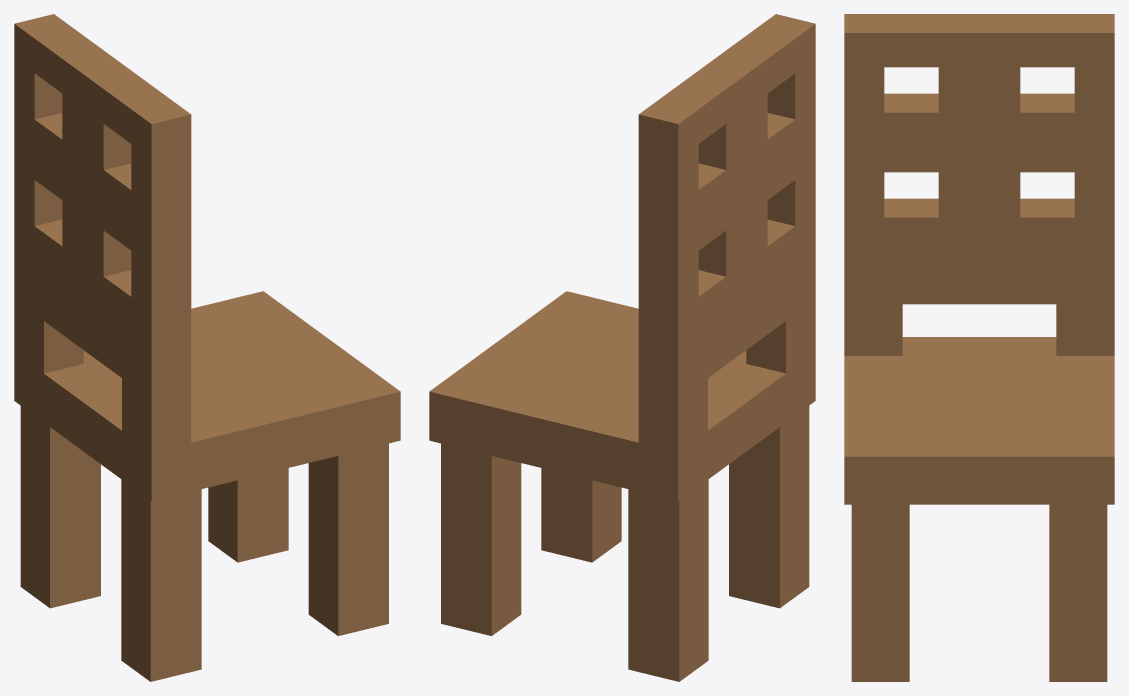
File: sushi-Environment_Chair1.glb
The picture shows the model from 3 angles, left to right: view 1: azimuth 30°, elevation 25°; view 2: azimuth 150°, elevation 25°; view 3: azimuth 270°, elevation 25°; orthographic projection.
Parts seen in each view (by area): view 1: Environment_Chair1; view 2: Environment_Chair1; view 3: Environment_Chair1.
Part boxes in pixels (x1,y1,x2,y2): Environment_Chair1: (14,14,400,681); Environment_Chair1: (429,14,815,681); Environment_Chair1: (844,14,1114,681).
Bounding box in the file's own units: 0.8373 × 1.8 × 0.7993.
Materials: 1 (1 with a texture image).
